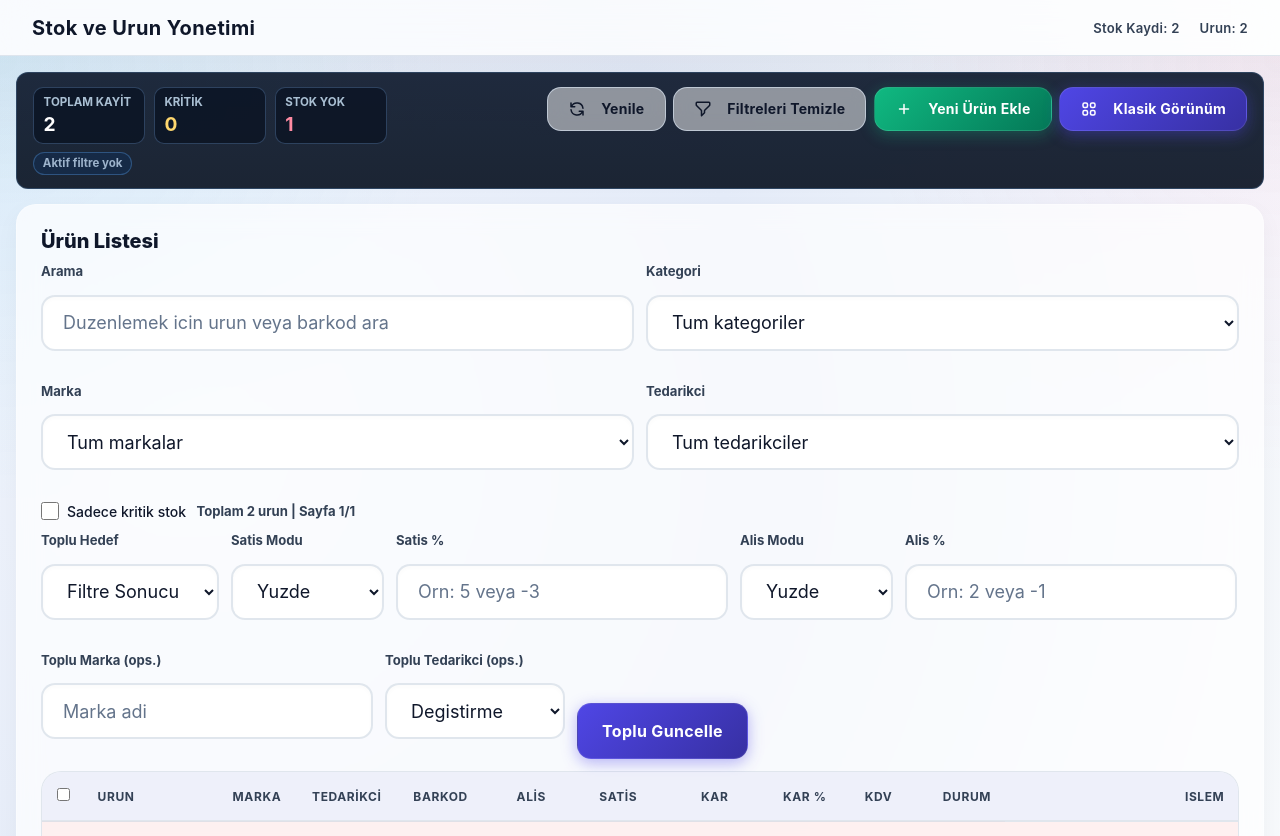
Test: StockPage › applies product and stock filters without breaking list rendering
Type "XYZ" into the field with placeholder "Duzenlemek icin urun veya barkod ara". click: (338, 322)
box: x1=41 y1=294 x2=634 y2=350
(page scrolled)
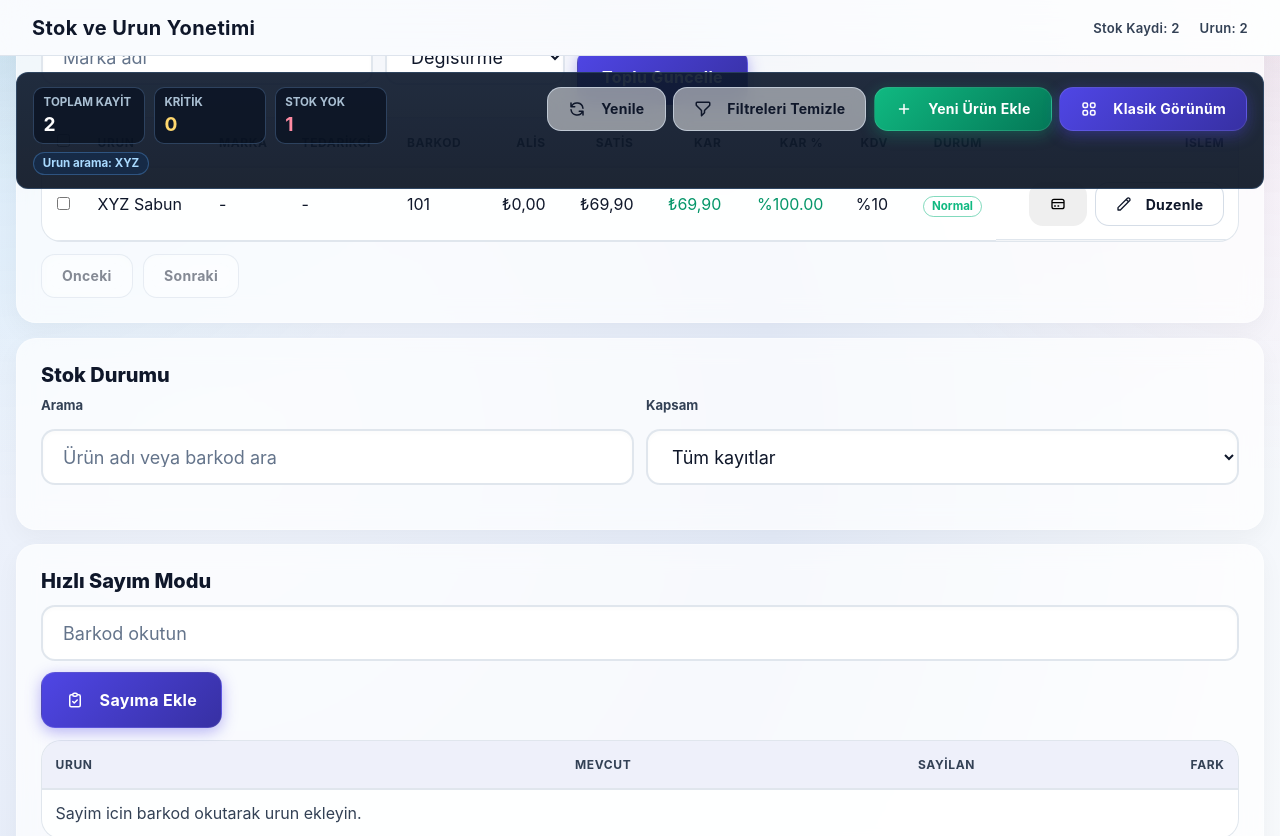
Expected: the text "XYZ Sabun" is shown, x1=84 y1=167 x2=205 y2=241
Select "Sadece Stok Yok" in the dropdown showing "Tüm kayıtlar" below "Kapsam". click: (942, 457)
box: x1=646 y1=429 x2=1239 y2=485
(page scrolled)
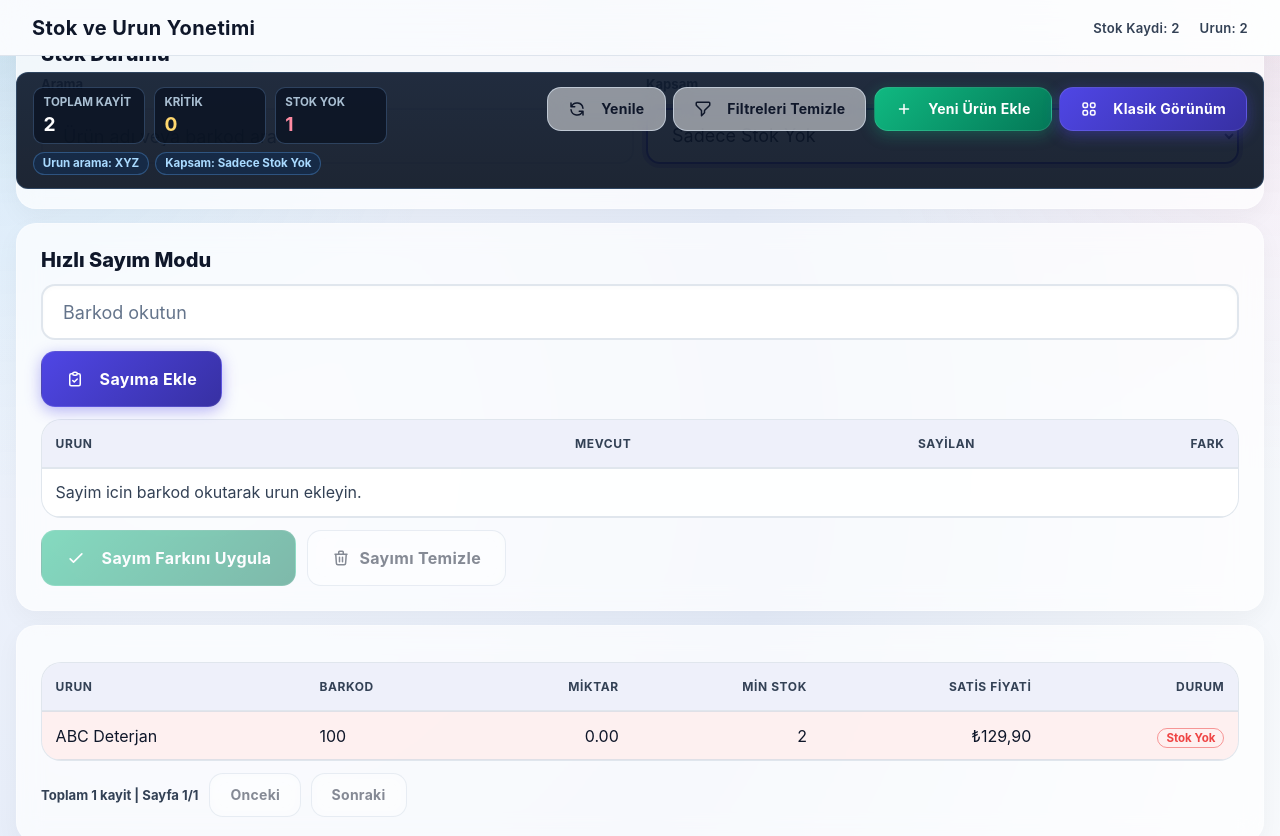
Expected: the text "ABC Deterjan" is shown, x1=42 y1=711 x2=306 y2=760
